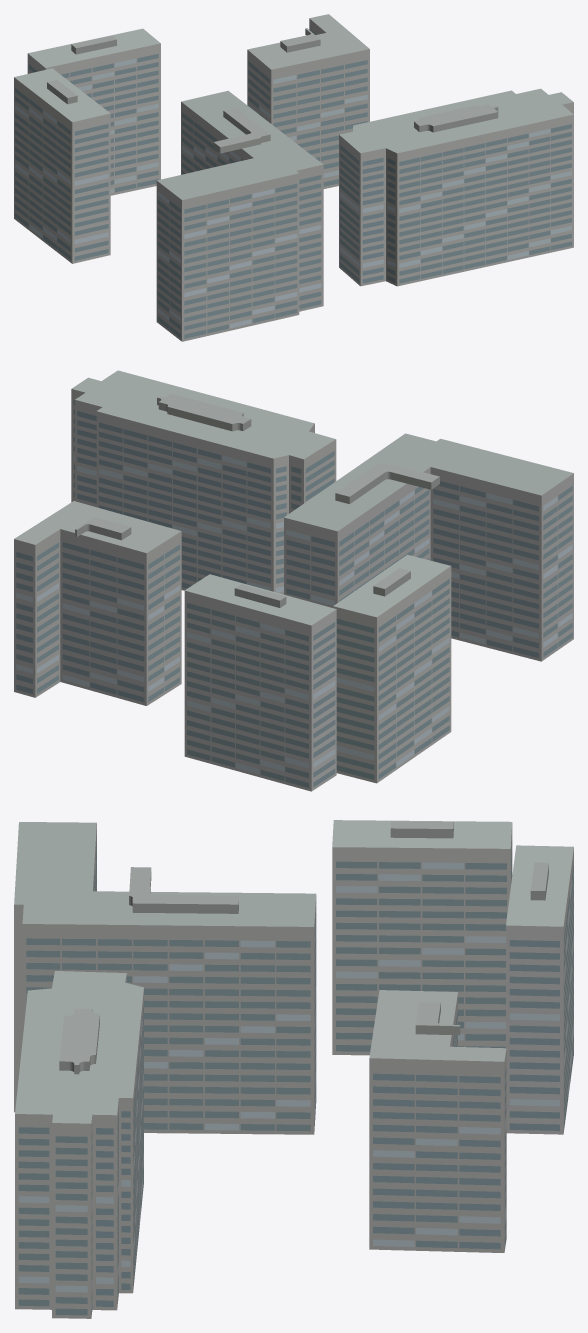
Rendered from apt-a13407202.glb.
3 renders of one model, top to bottom at view 1: azimuth 30°, elevation 25°; view 2: azimuth 150°, elevation 25°; view 3: azimuth 270°, elevation 25°, orthographic. The views are drawn at different scales.
Visible parts, largest first — view 1: apt-a13407202; view 2: apt-a13407202; view 3: apt-a13407202.
Boxes of the visible parts, x1,y1,x2,y2 form: apt-a13407202: (14,14,573,341); apt-a13407202: (14,370,573,791); apt-a13407202: (14,820,573,1318).
Bounding box in the file's own units: 156 × 54.18 × 127.
